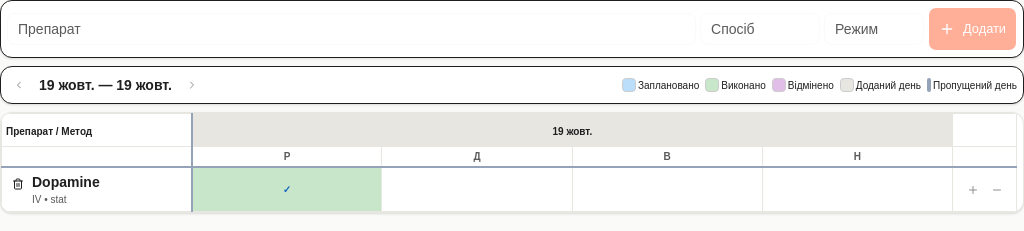
it: PrescriptionSpreadsheet — per-item day actions › «Відмінити це призначення» is hidden for unplanned and completed cells
This screenshot has width=1024, height=231.
Right-click the text "✓" at (287, 189), box [192,167,382,212]
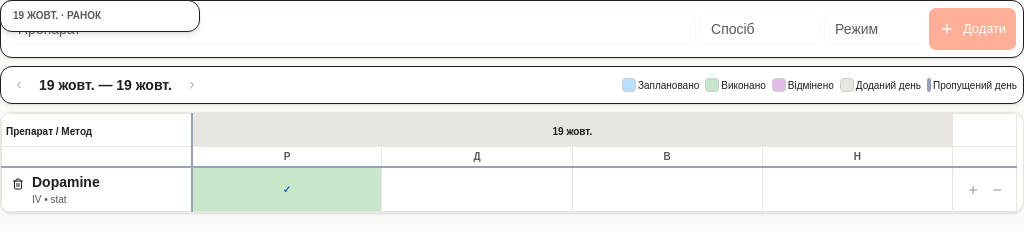
Now the menu named "Контекстне меню дня" is shown, box [0,0,200,32]
Press Escape
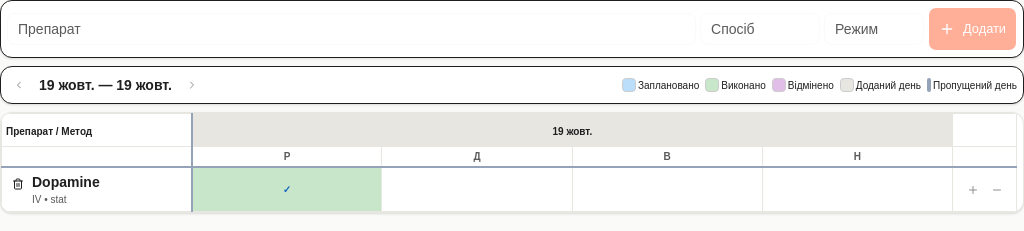
Expected: the text "Dopamine" is shown, [32,174,100,190]
Right-click the cell "✓" at (287, 189), box [192,167,382,212]
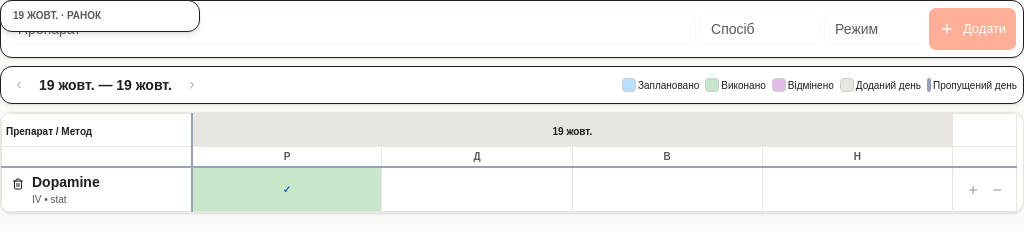
Now the menu named "Контекстне меню дня" is shown, box [0,0,200,32]
